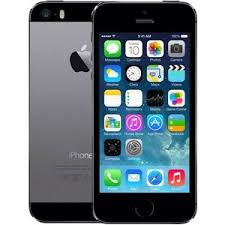iphone: (89, 1, 200, 223)
iphone5: (89, 1, 200, 223)
